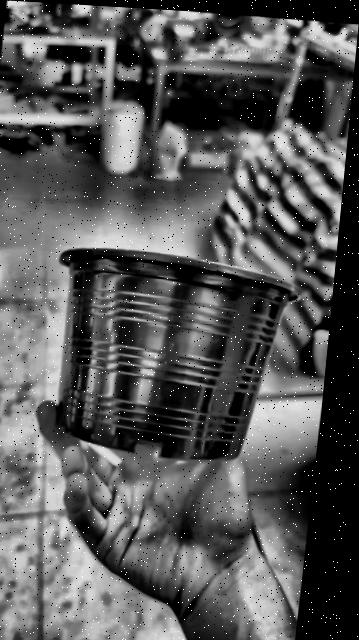pot: (57, 249, 297, 461)
